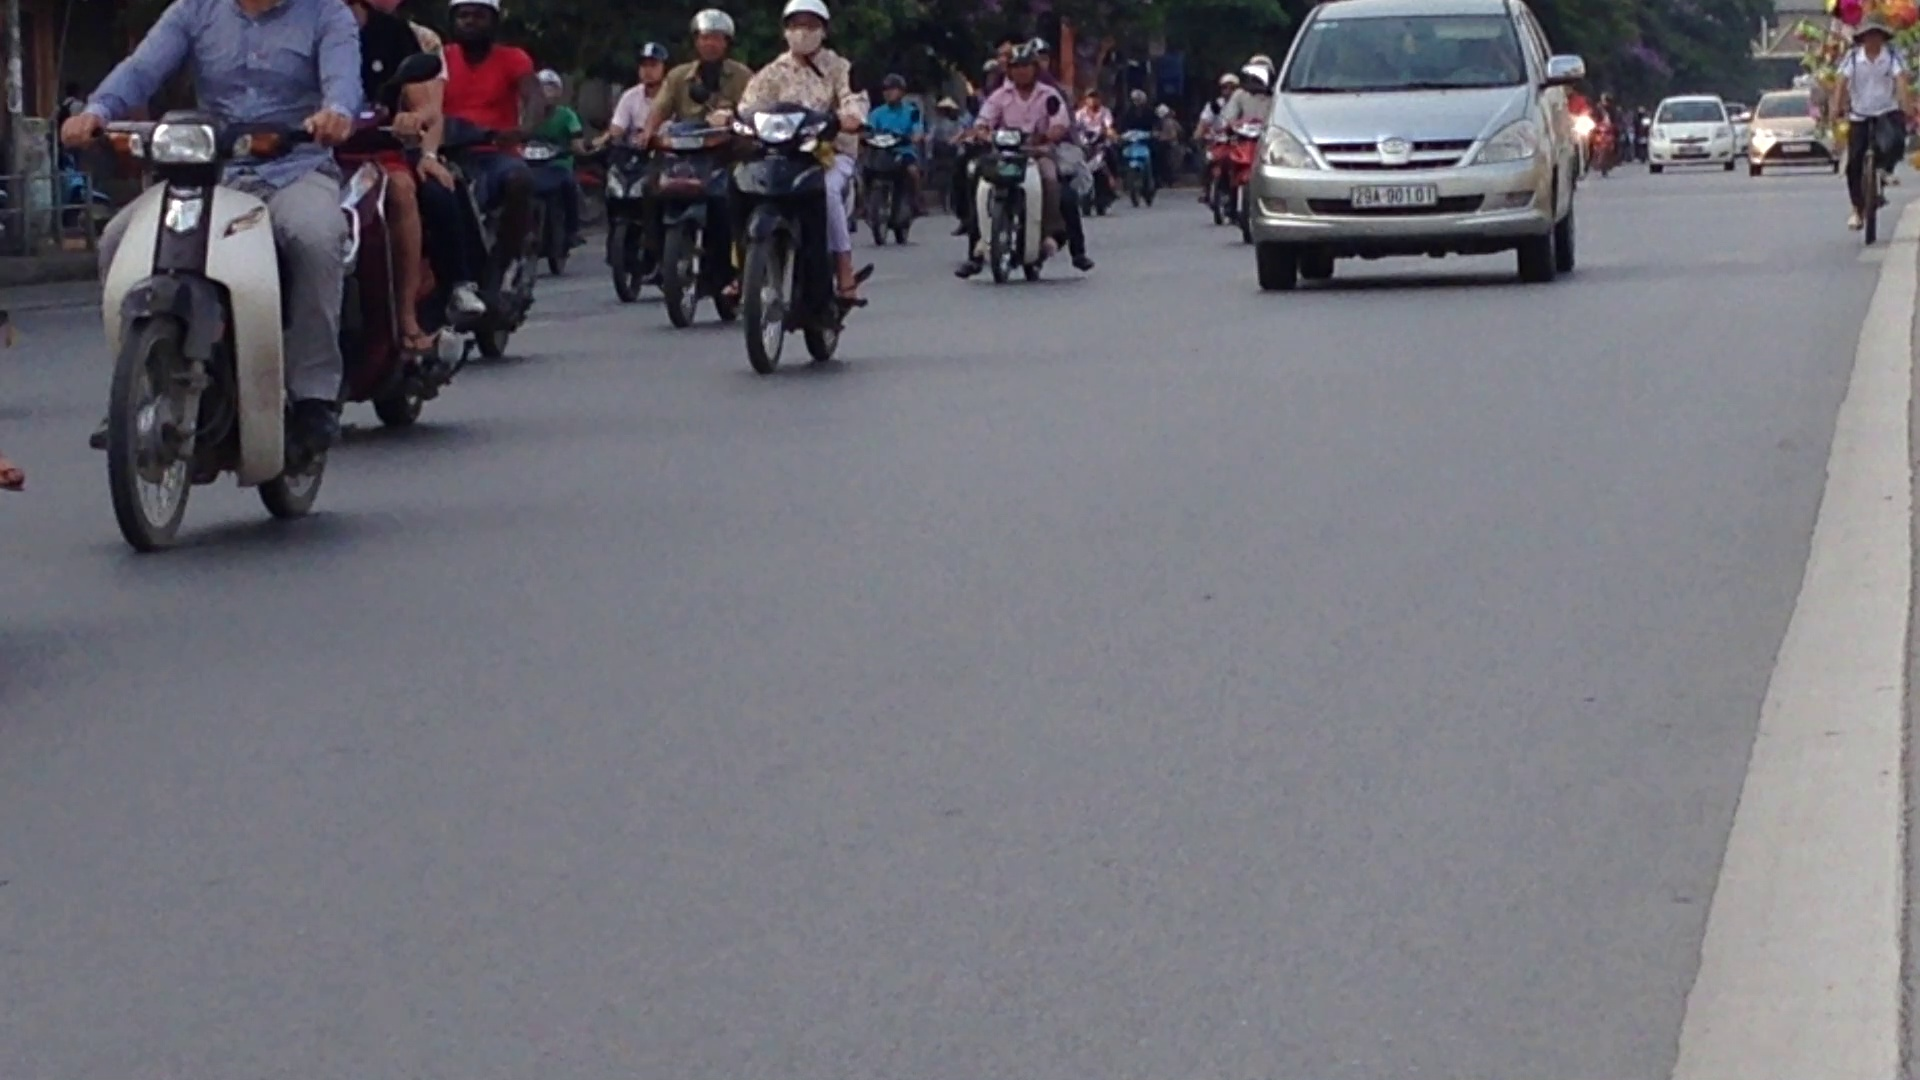vehicle-plate: (1347, 176, 1444, 211)
